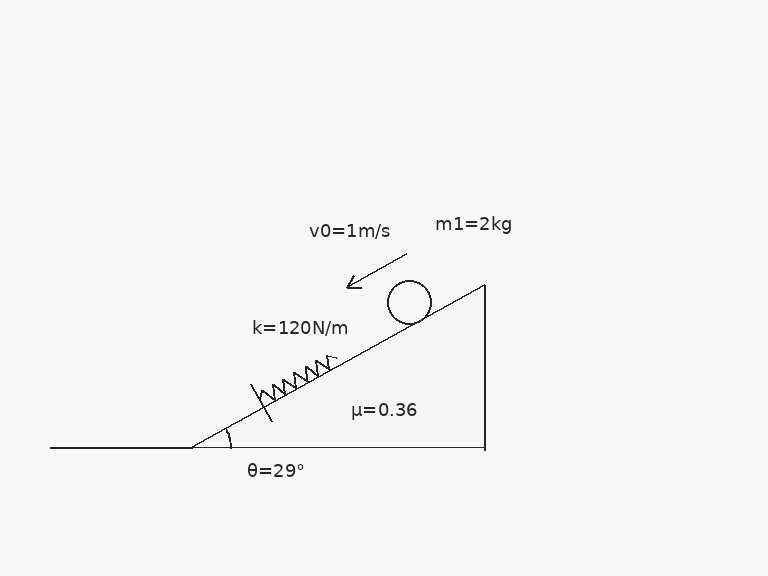ball: (385, 278, 433, 326)
ramp: (189, 284, 486, 450)
spring: (258, 352, 338, 402)
